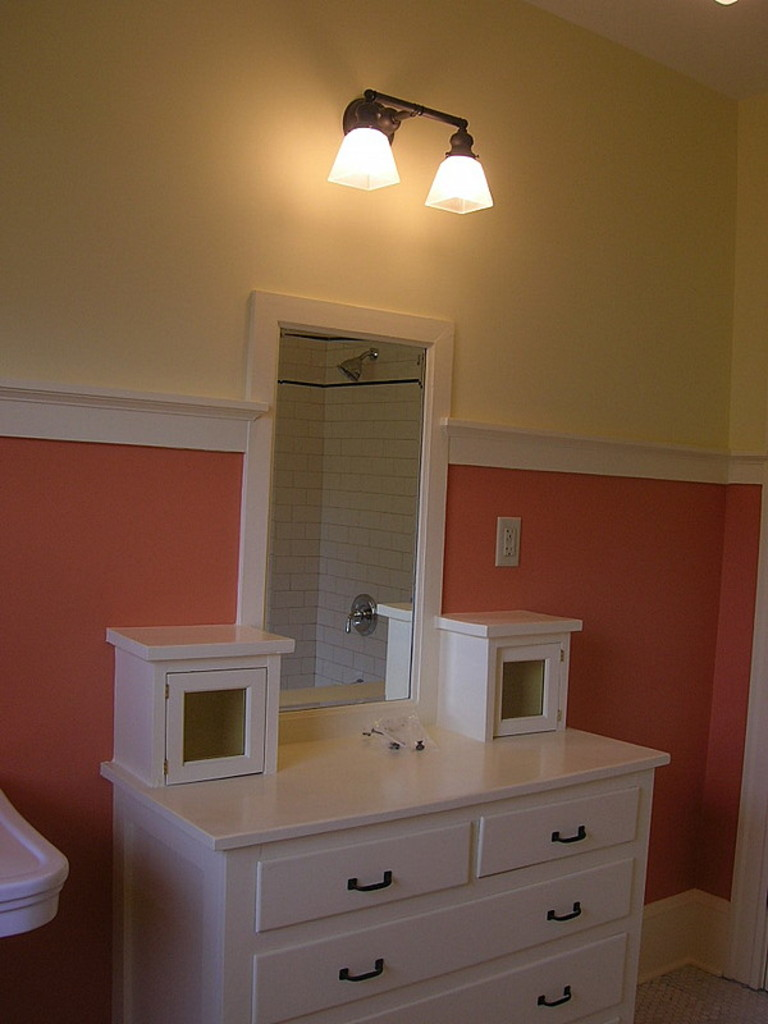cabinet door: (308, 902, 590, 969), (451, 963, 602, 1024), (273, 852, 465, 892), (486, 811, 637, 855)
handle: (339, 855, 394, 897), (333, 959, 385, 988), (553, 822, 594, 852), (542, 899, 583, 927), (536, 987, 571, 1017)
